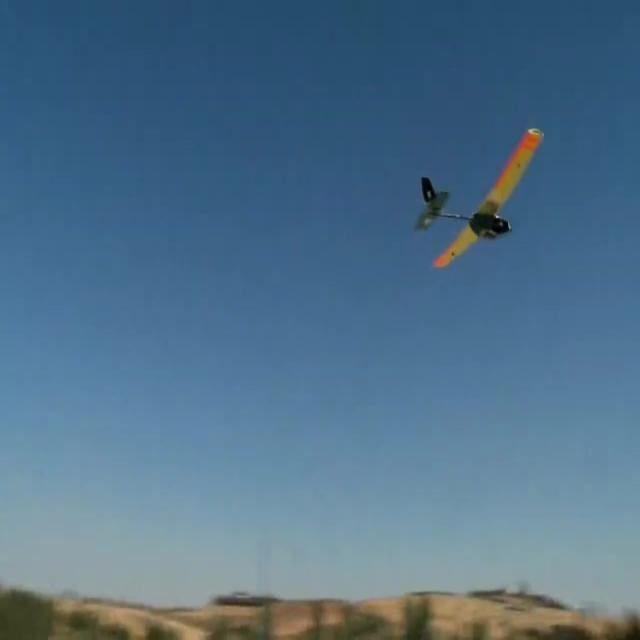iha: (414, 119, 544, 269)
